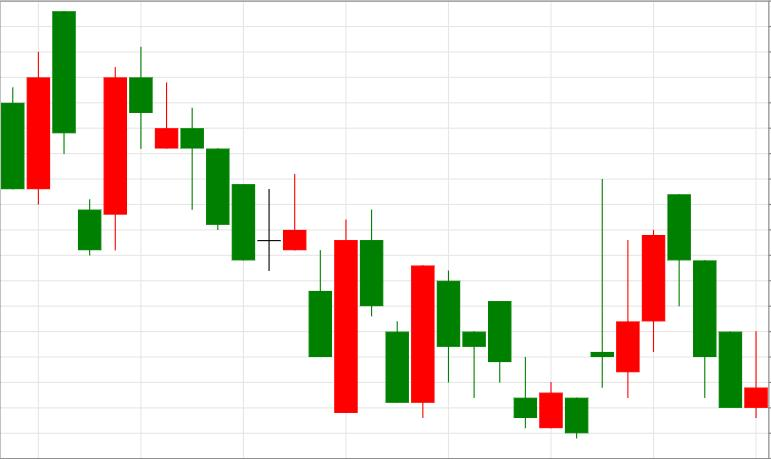bullish_engulfing_rise: (130, 47, 357, 414)
